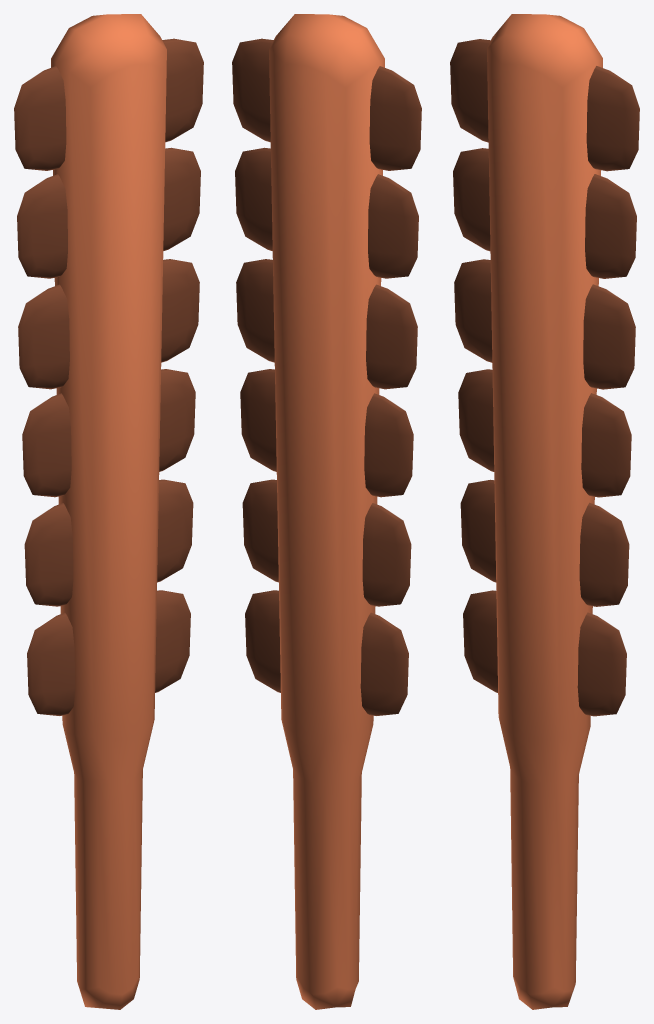
The model's file is Stone_Sword.fbx.
3 views of the same model, side by side, from view 1: azimuth 30°, elevation 25°; view 2: azimuth 150°, elevation 25°; view 3: azimuth 330°, elevation 25° (orthographic).
Parts seen in each view (by area): view 1: Stone_Sword; view 2: Stone_Sword; view 3: Stone_Sword.
Part boxes in pixels (box(x1,y1,x2,y2)): Stone_Sword: box(14, 14, 203, 1009); Stone_Sword: box(232, 14, 421, 1009); Stone_Sword: box(450, 14, 639, 1009).
Bounding box in the file's own units: 0.1002 × 0.5004 × 0.0428.
